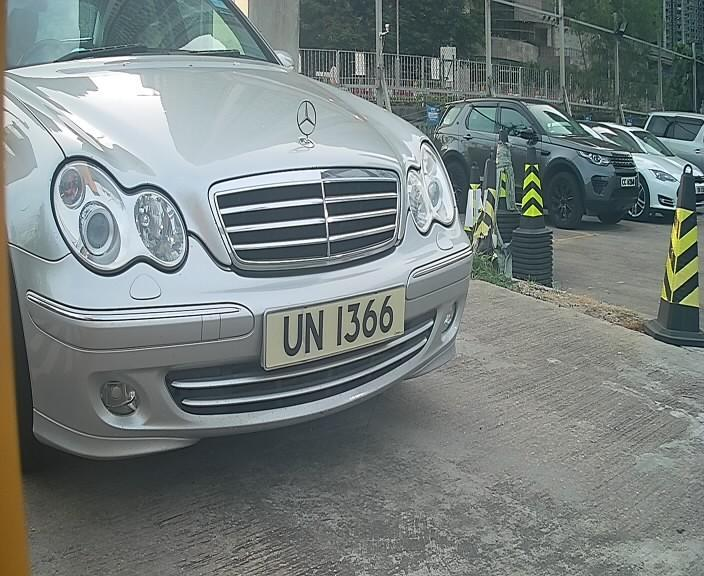privatecar: (2, 4, 479, 496)
